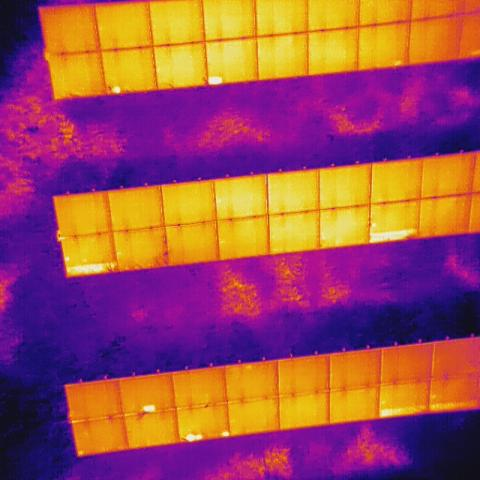fault: (66, 260, 117, 278), (370, 229, 417, 244), (428, 400, 474, 413), (380, 404, 428, 416), (206, 72, 224, 86), (140, 402, 158, 415), (183, 431, 202, 442), (110, 83, 122, 94), (220, 427, 230, 440), (75, 447, 85, 456)
